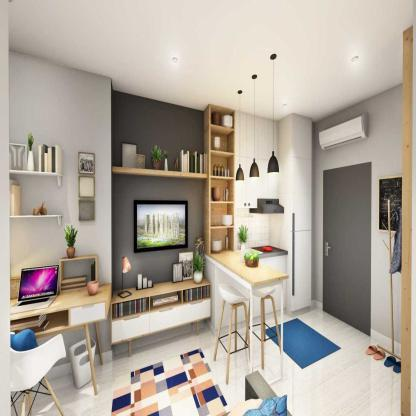kursi: (11, 328, 65, 416)
meja: (210, 253, 299, 391)
